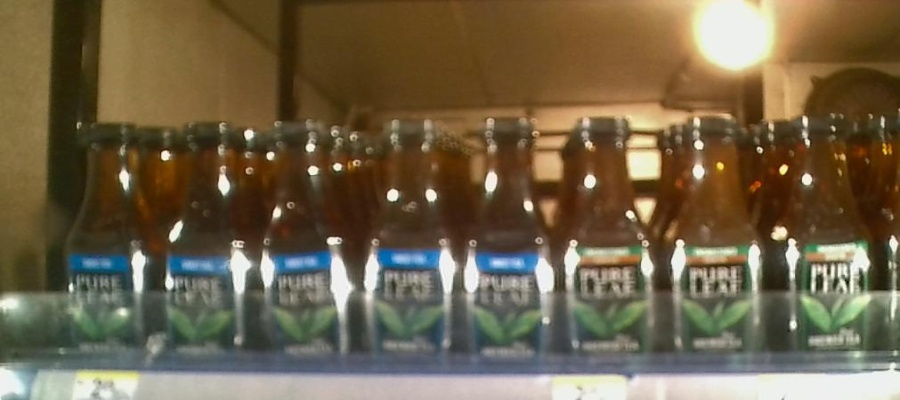bottle: (664, 101, 776, 371), (780, 103, 881, 373), (562, 101, 661, 371), (358, 114, 461, 373), (59, 113, 161, 364), (466, 108, 559, 372), (164, 117, 257, 368), (261, 114, 351, 371)
